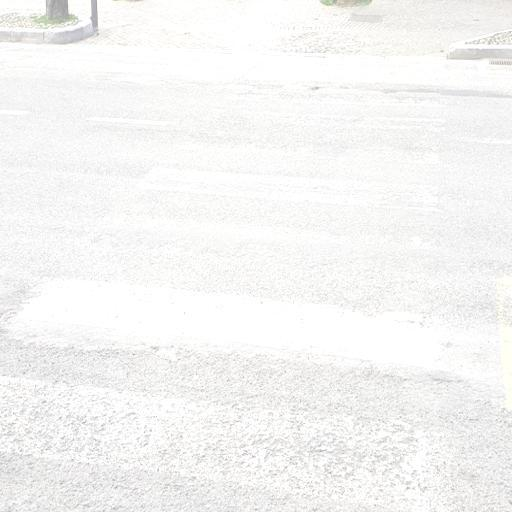crosswalk: (10, 198, 454, 381)
